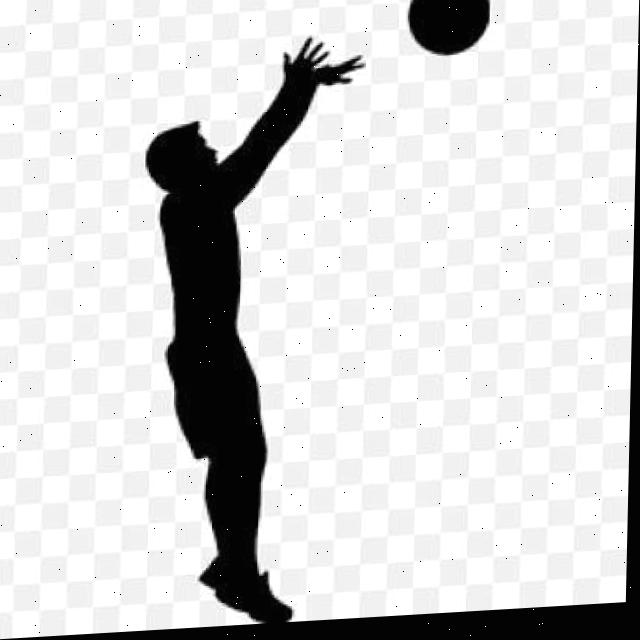basketball: (407, 0, 490, 58)
